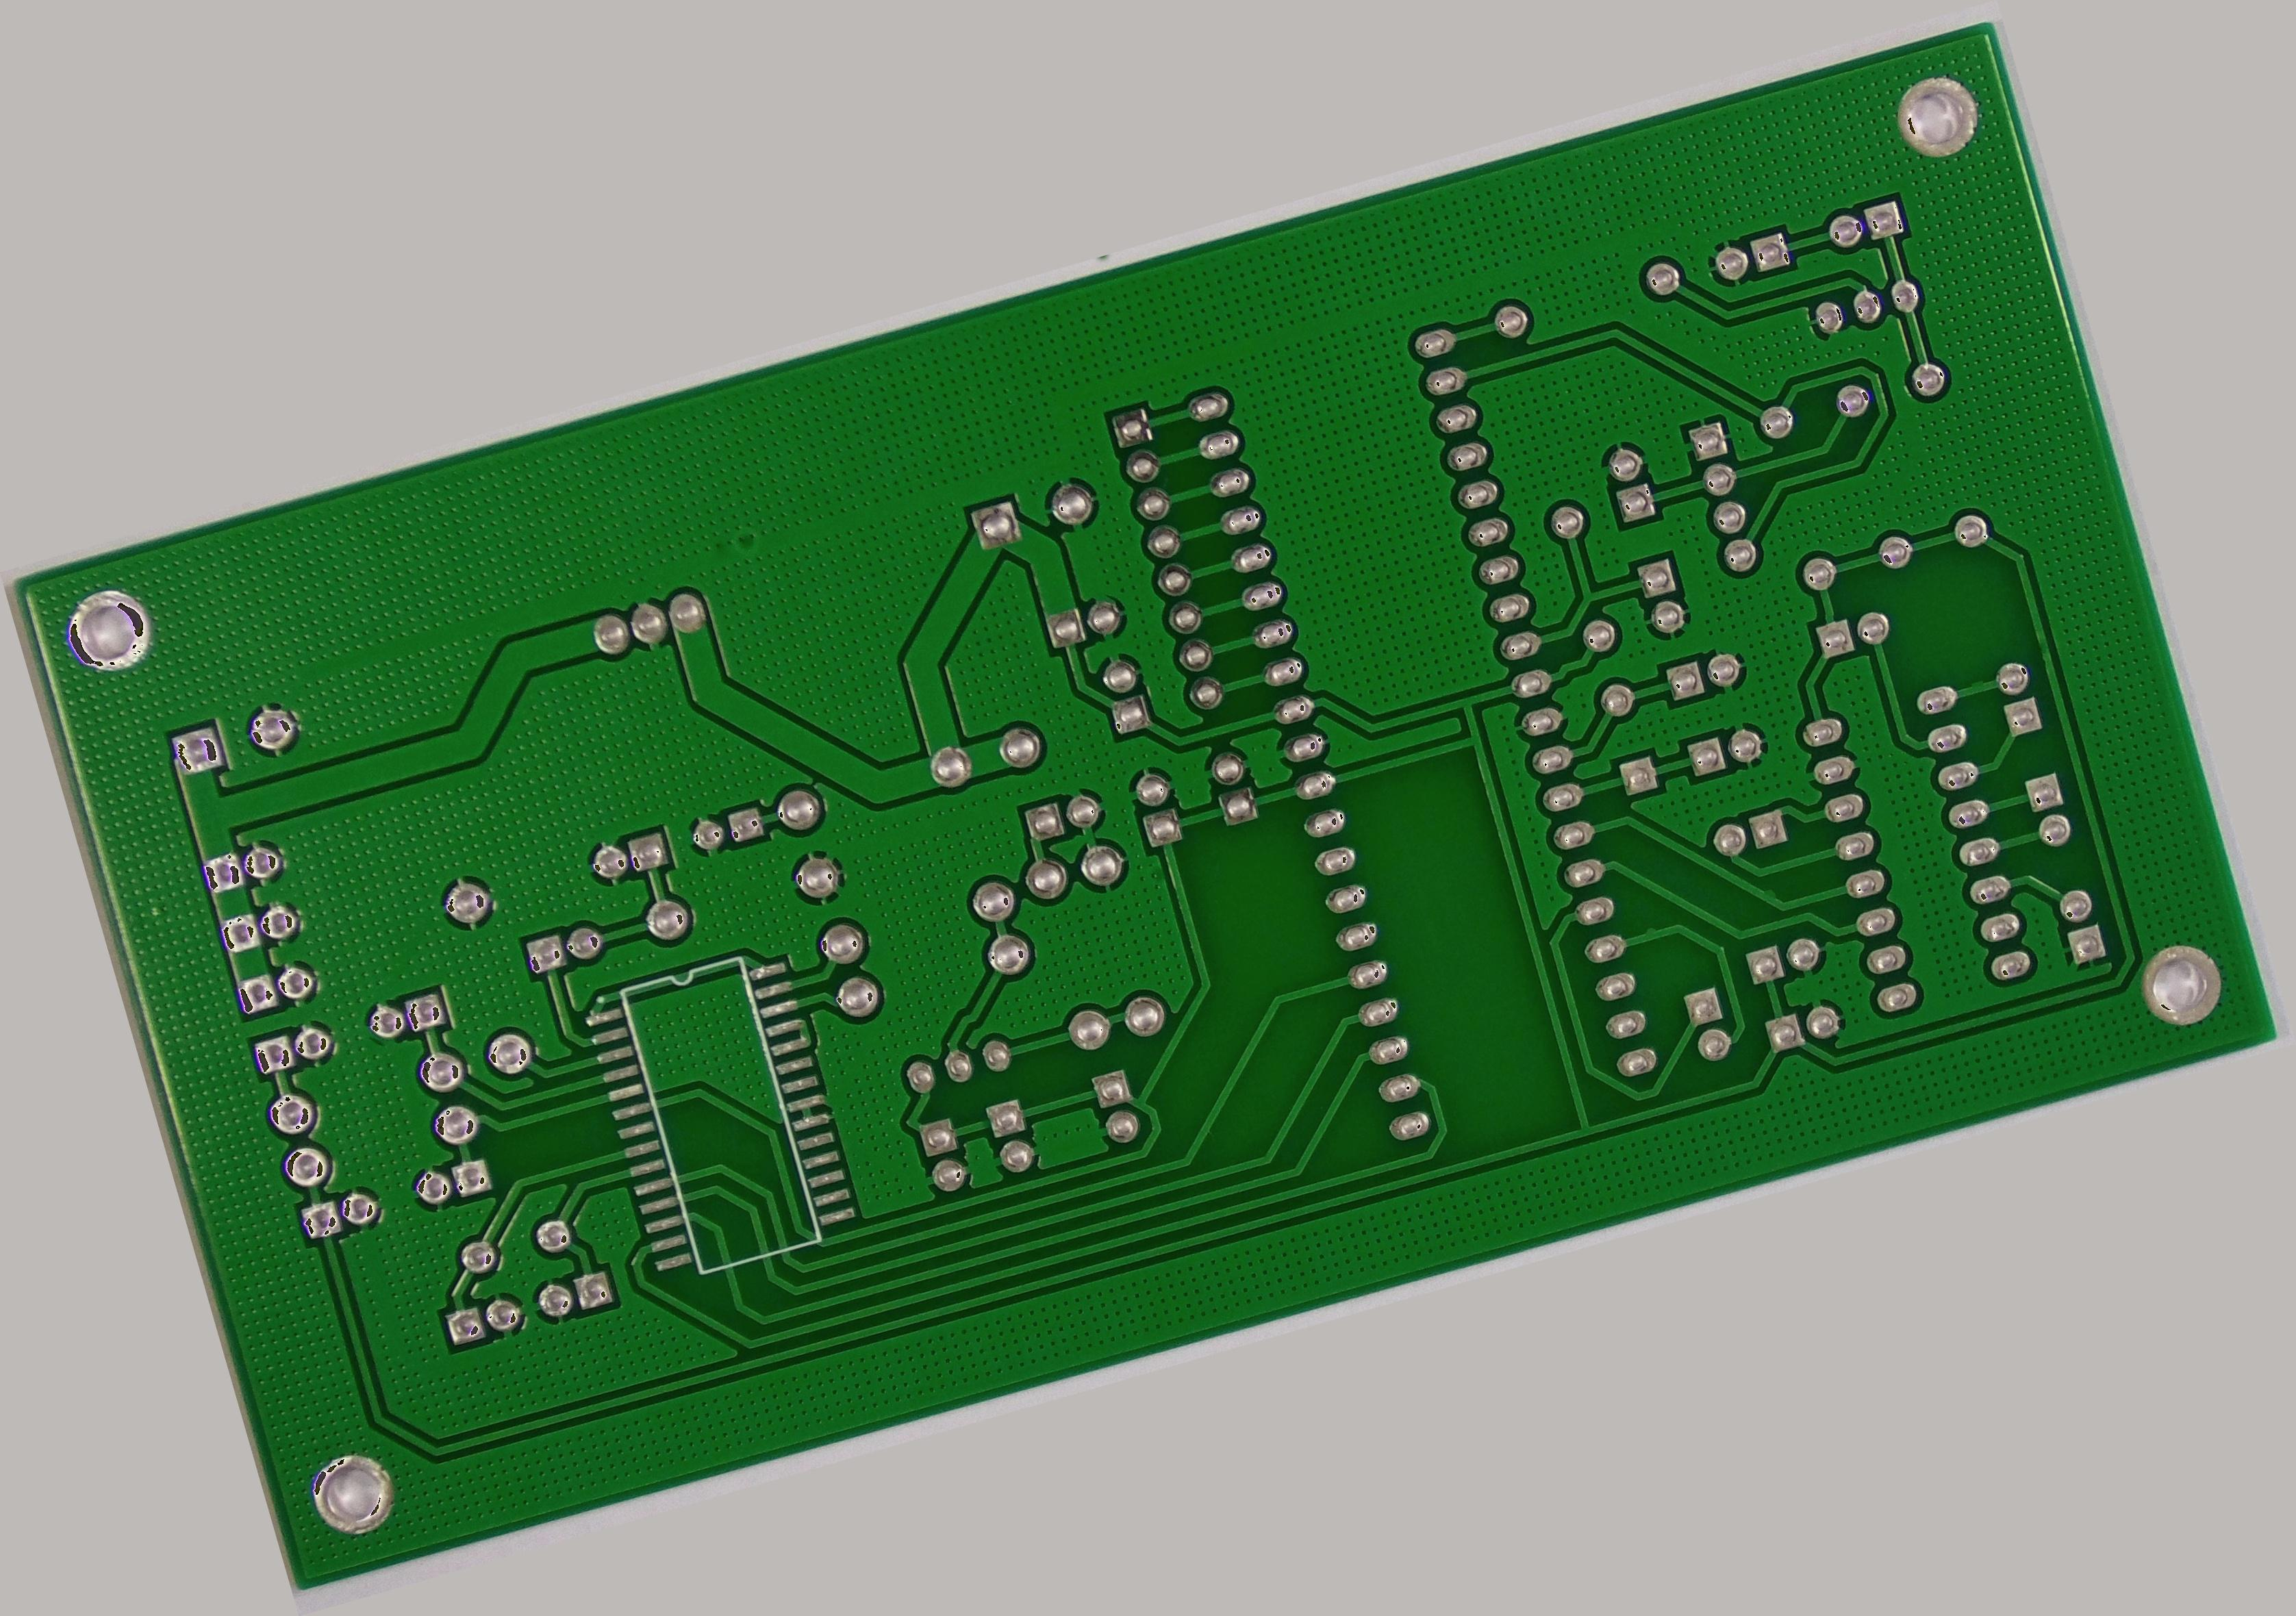spur: (1747, 874, 1784, 915), (1959, 670, 1993, 701), (1635, 918, 1665, 948)
